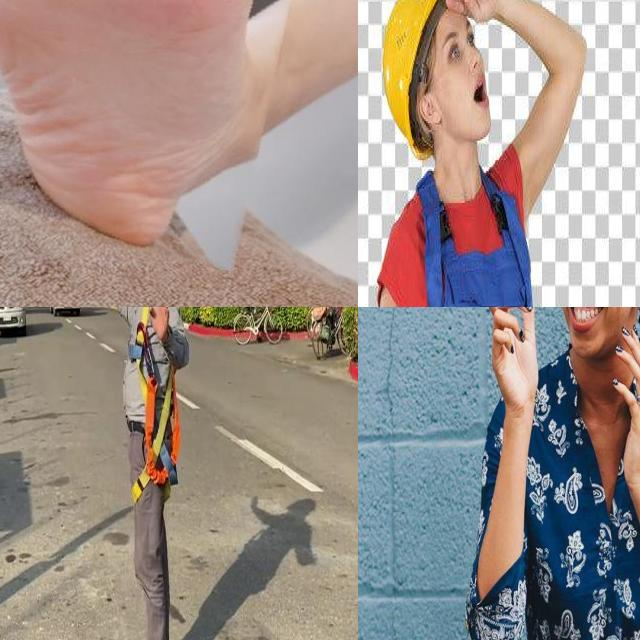Barefoots: (0, 0, 286, 247)
Harness: (133, 307, 181, 502)
No_Ear-Protection: (416, 89, 446, 136)
No_Glasses: (440, 16, 479, 72)
face_nomask: (452, 54, 492, 138)
hand_noglove: (446, 0, 495, 22)
head_helmet: (382, 0, 438, 158)
